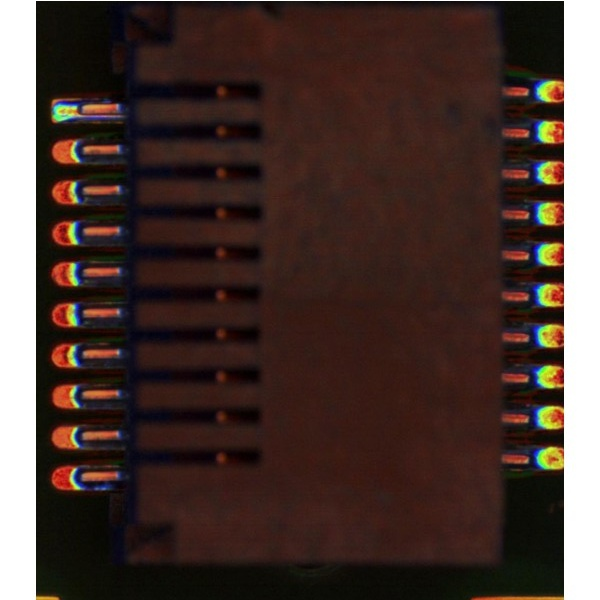Bad_qiaojiao: (83, 113, 122, 120)
